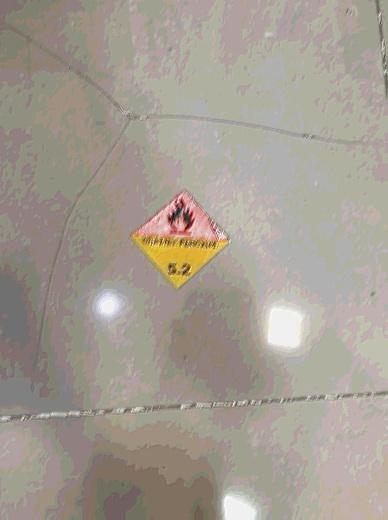organic-peroxide: (129, 191, 234, 292)
